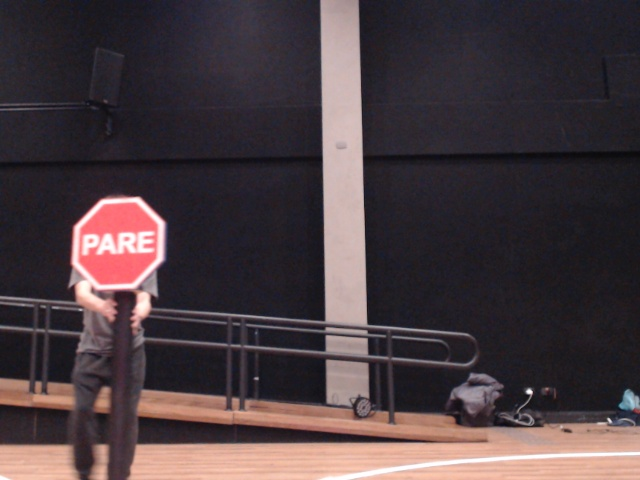SEMAFORO: (56, 182, 200, 314)
